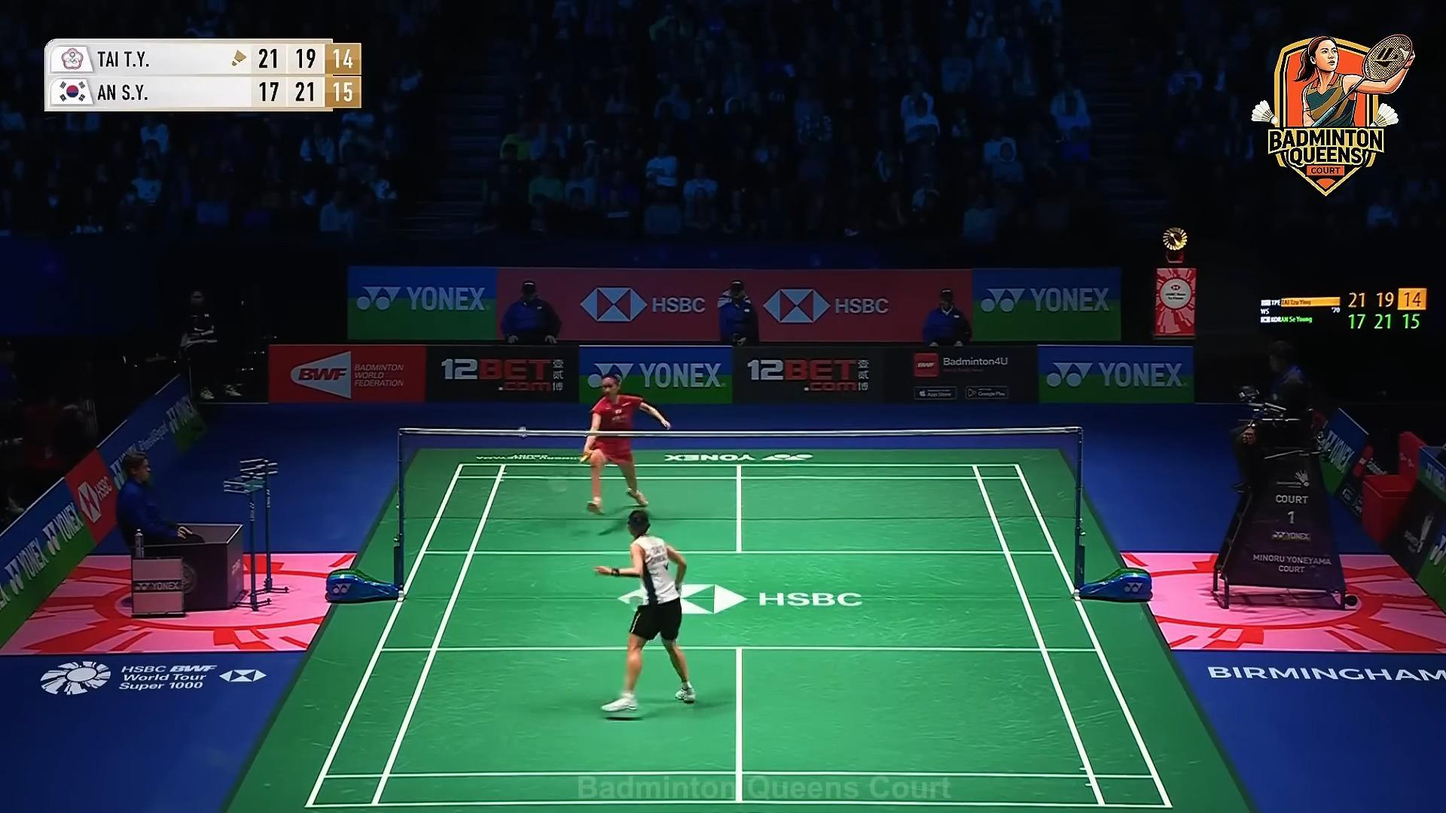player: (595, 510, 696, 716), (580, 370, 670, 515)
